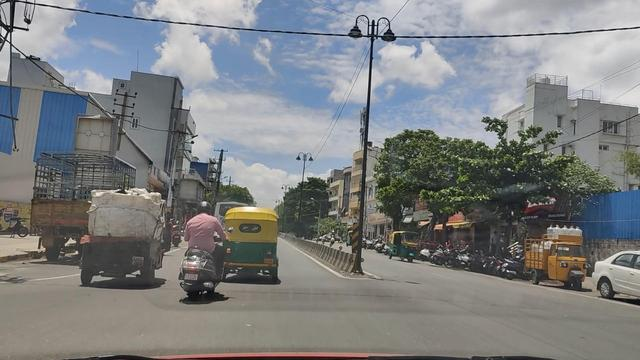LMV: (85, 192, 168, 281), (177, 197, 224, 306), (228, 207, 280, 285)
